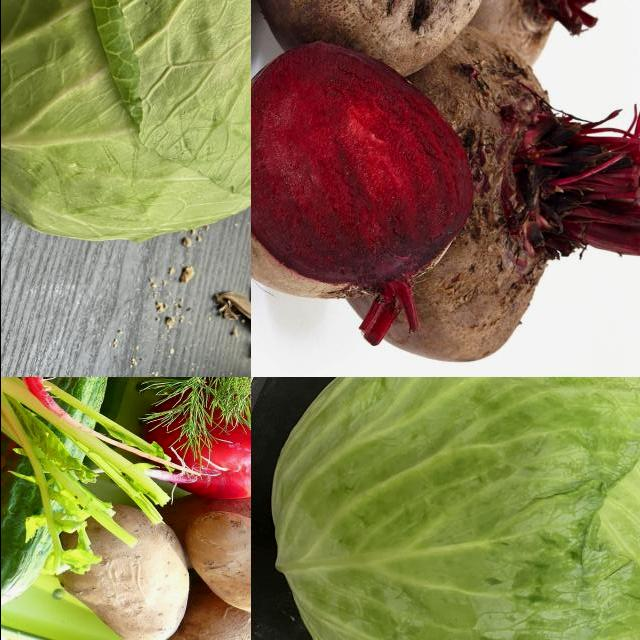beet: (357, 51, 640, 364), (251, 51, 470, 311), (251, 1, 487, 63), (457, 1, 607, 81)
cabbage: (263, 378, 640, 640), (1, 1, 251, 247)
potato: (93, 519, 183, 640), (202, 514, 251, 613)
